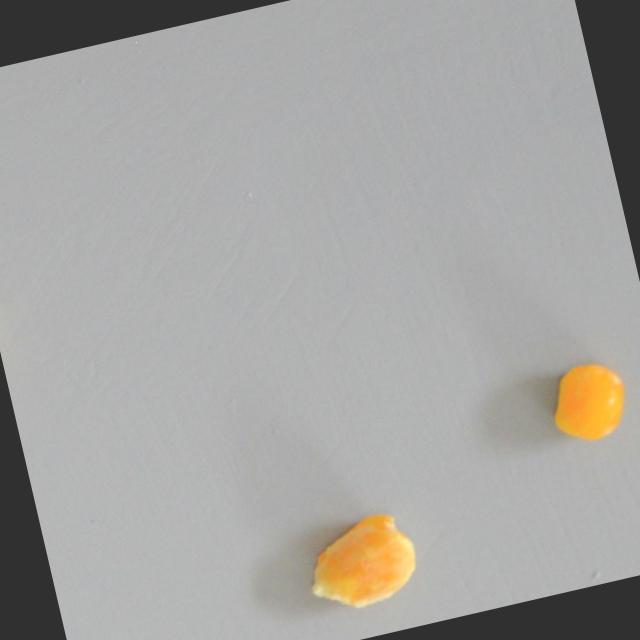dañado: (535, 351, 639, 455)
pelicula: (294, 504, 428, 622)
